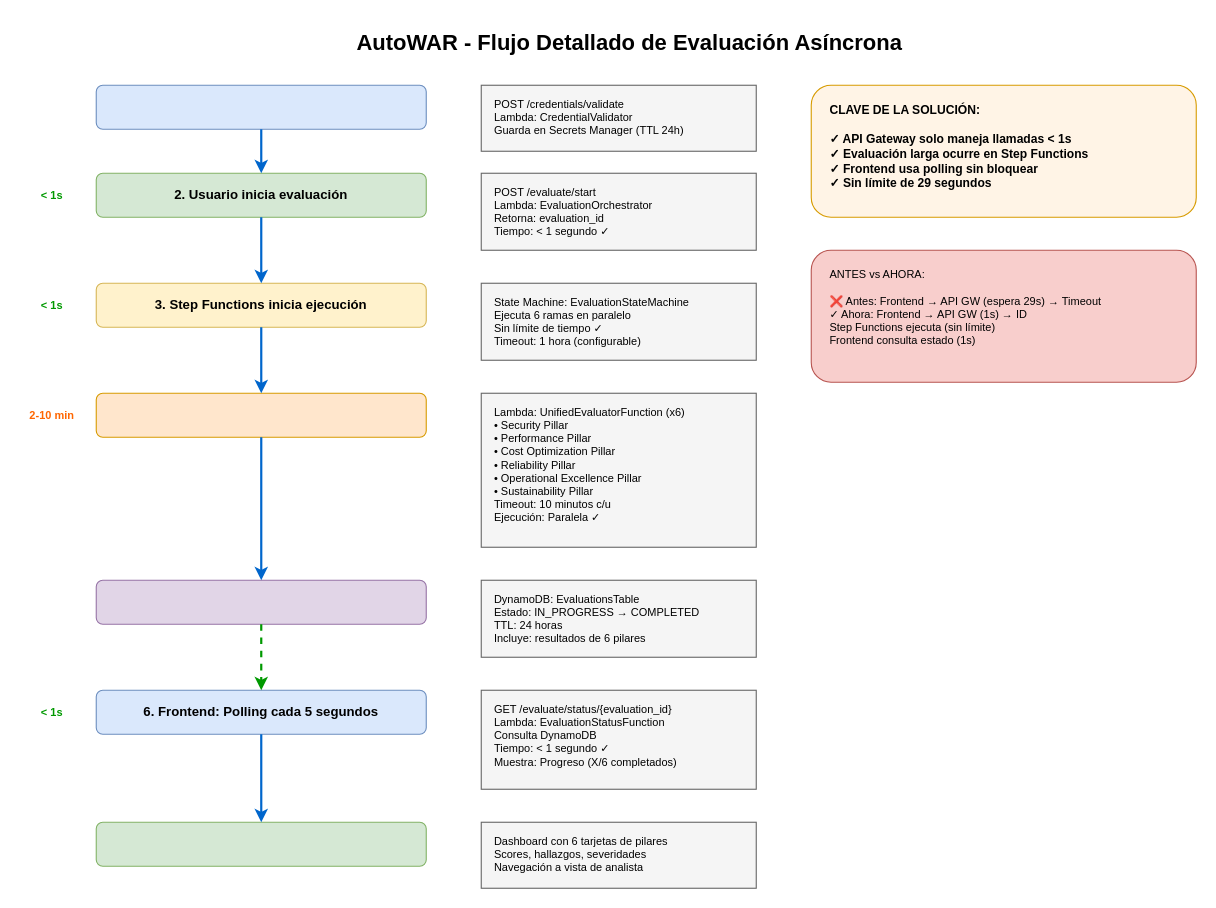
Image size: 1216x908. Some labels were removed from this diagram. Here are the shapes that lost their labels. From the top down, the centre of each, then its label:
the point at 260,106: 1. Usuario ingresa credenciales AWS
the point at 260,414: 4. Evaluación de 6 pilares (paralelo)
the point at 260,601: 5. Resultados guardados en DynamoDB
the point at 260,843: 7. Resultados mostrados al usuario
